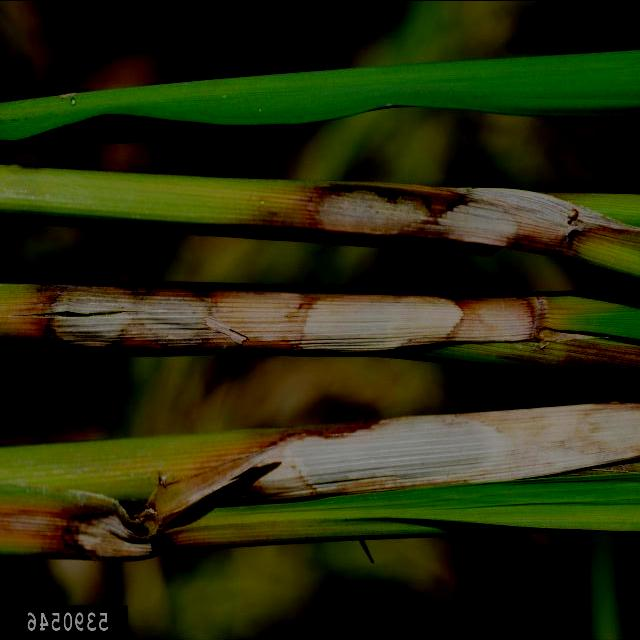Bacterial_Leaf_Blight: (192, 402, 640, 507), (9, 279, 539, 351), (302, 186, 580, 256), (0, 507, 171, 563)
